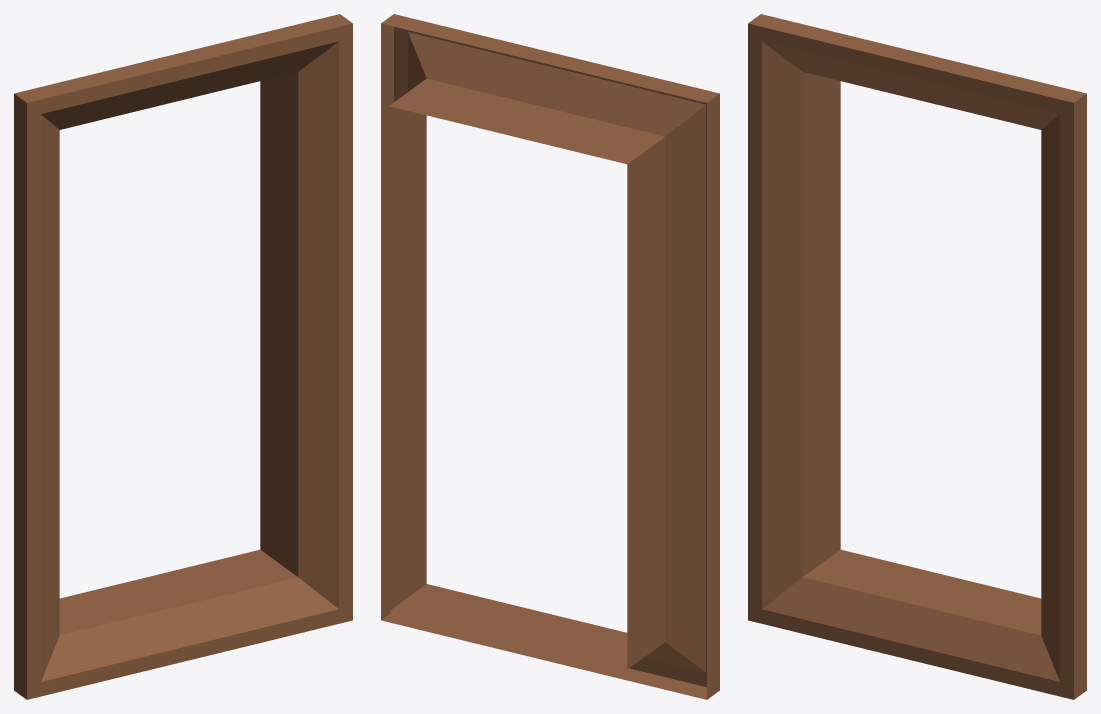
The model's file is DBK_WinSmall_Trim_C_Full.fbx.
3 views of the same model, side by side, from view 1: azimuth 30°, elevation 25°; view 2: azimuth 150°, elevation 25°; view 3: azimuth 330°, elevation 25° (orthographic).
Parts seen in each view (by area): view 1: DBK_WinSmall_Trim_C_Full; view 2: DBK_WinSmall_Trim_C_Full; view 3: DBK_WinSmall_Trim_C_Full.
Part boxes in pixels (x1,y1,x2,y2): DBK_WinSmall_Trim_C_Full: [14, 14, 352, 699]; DBK_WinSmall_Trim_C_Full: [381, 14, 719, 699]; DBK_WinSmall_Trim_C_Full: [748, 14, 1086, 699].
Bounding box in the file's own units: 80 × 140 × 20.75.
